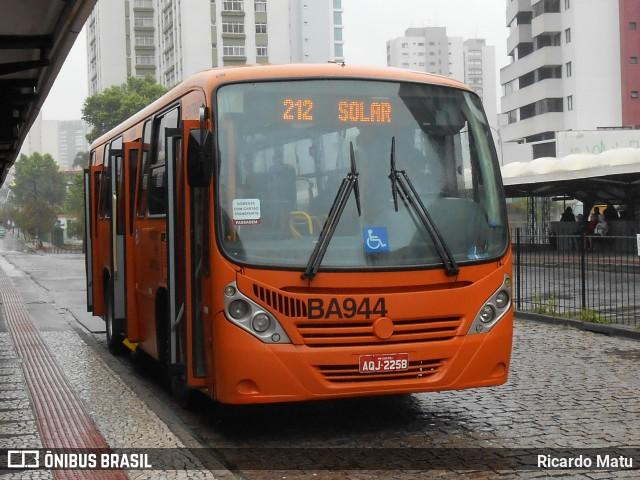SOLAR: (328, 93, 401, 128)
